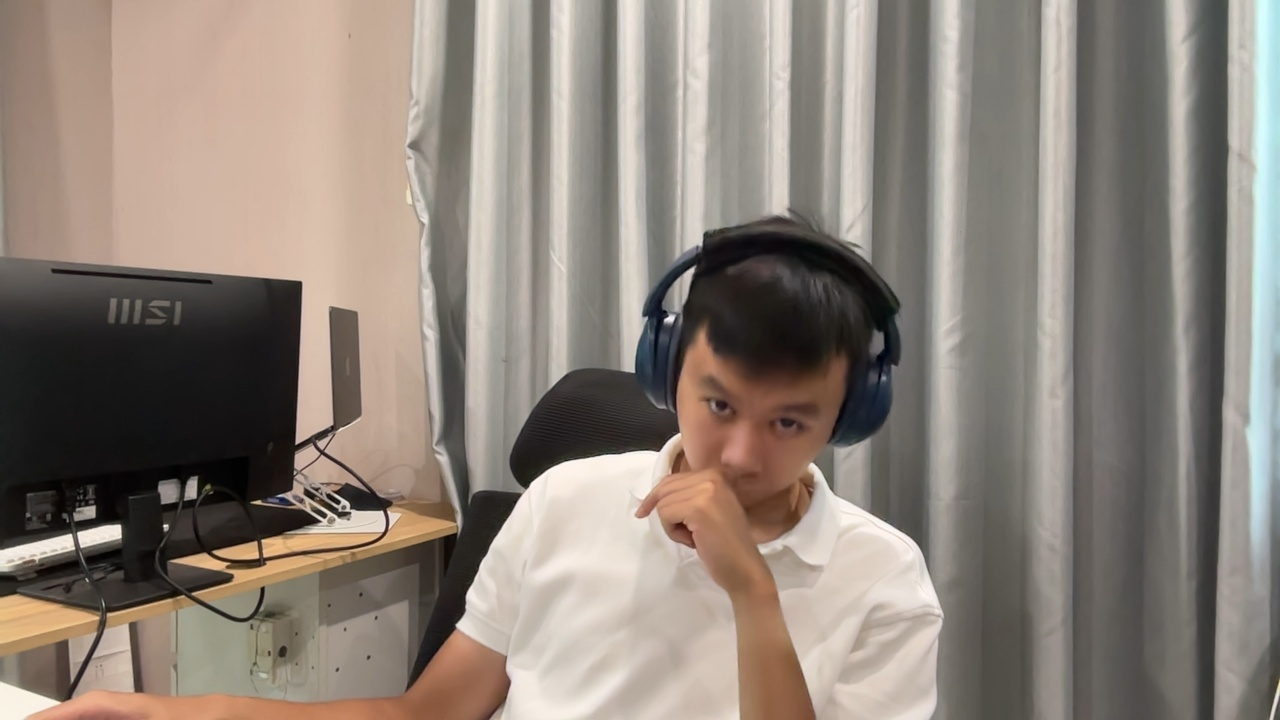over_ear: (633, 211, 904, 424)
